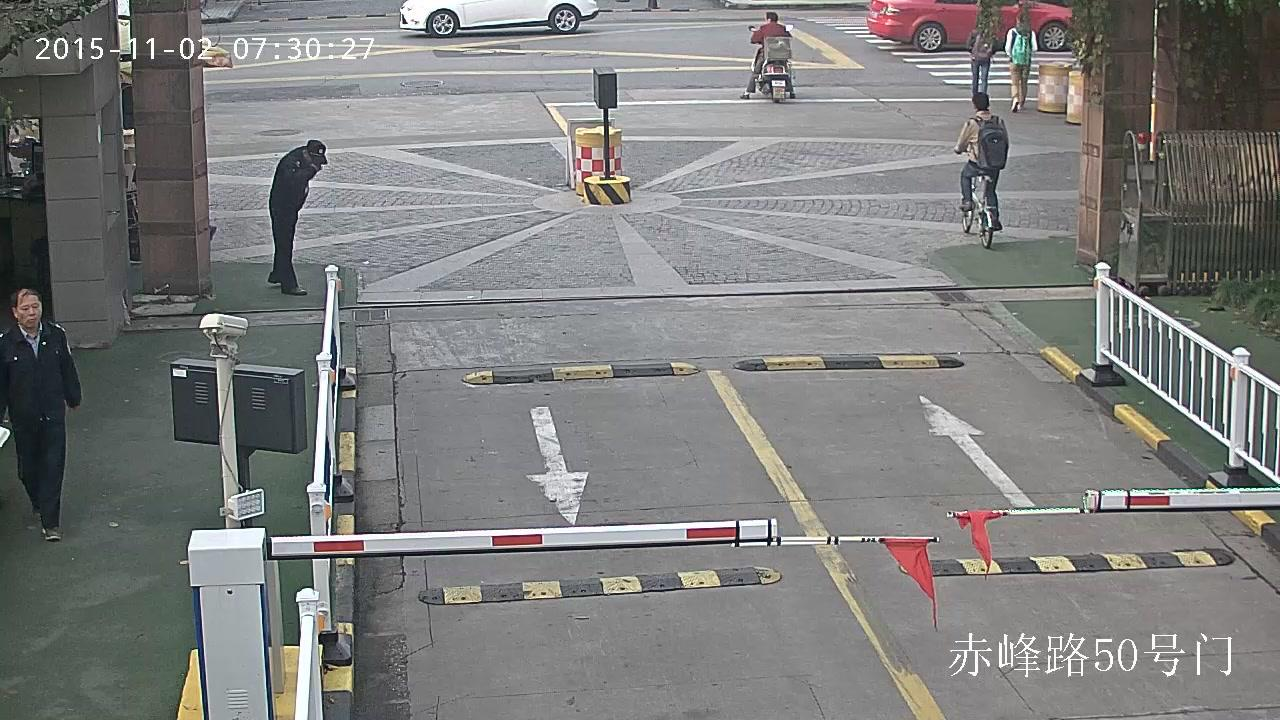face: (16, 294, 42, 326), (306, 154, 313, 163), (765, 15, 767, 22)
